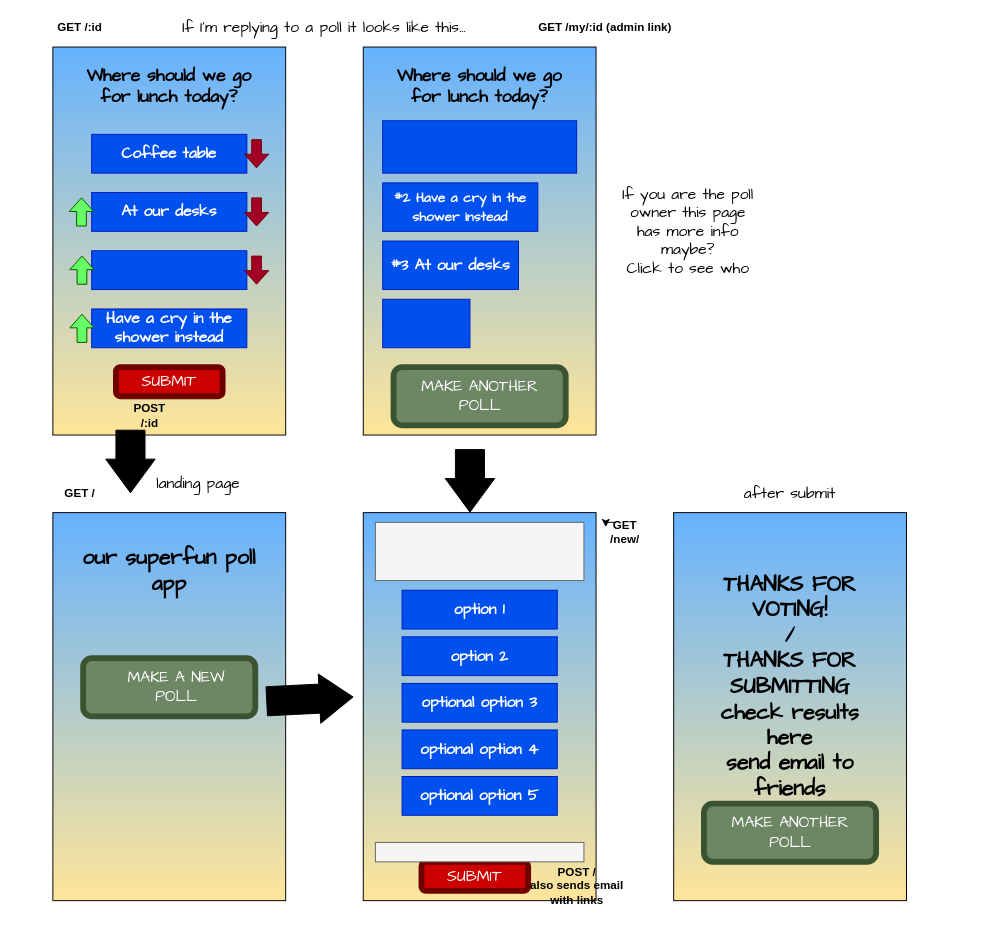
This 982x946 diagram has some shape labels left out. Here are the shapes that lost their labels. From the top down, the centre of each, then its label:
(479,146): #1 Coffee table
(169,270): On the front porch
(426,323): #4 On the front porch
(479,551): write your question here!
(479,851): email address here
